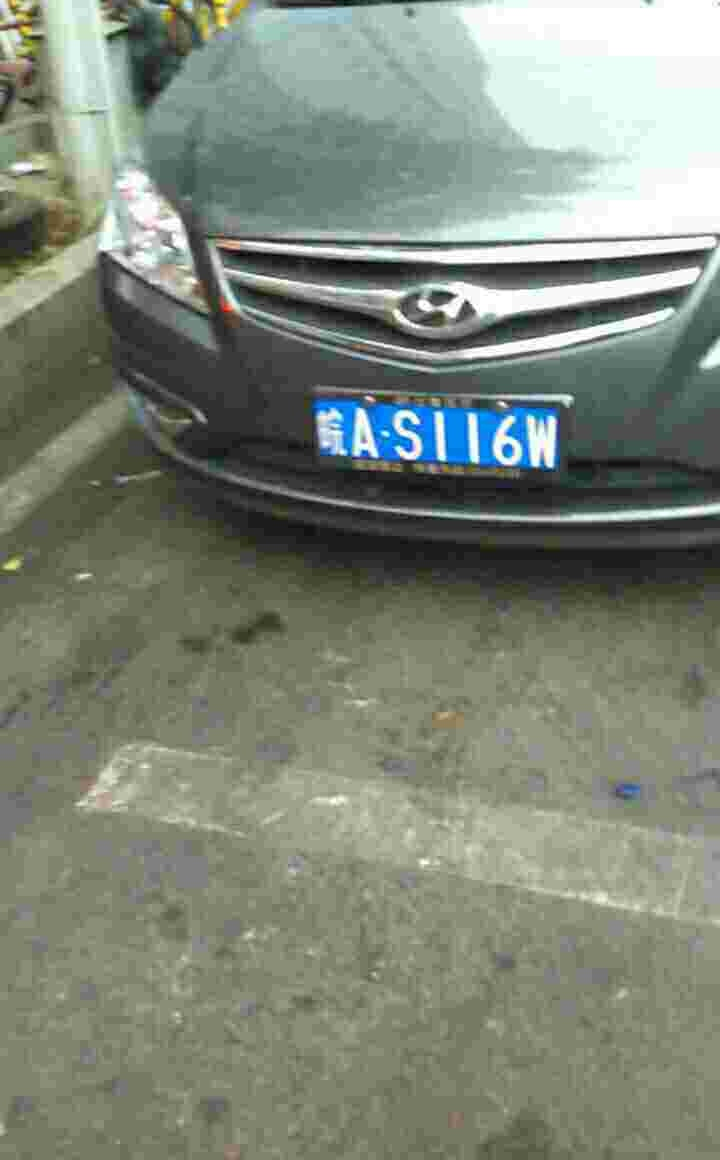plate: (307, 388, 572, 485)
